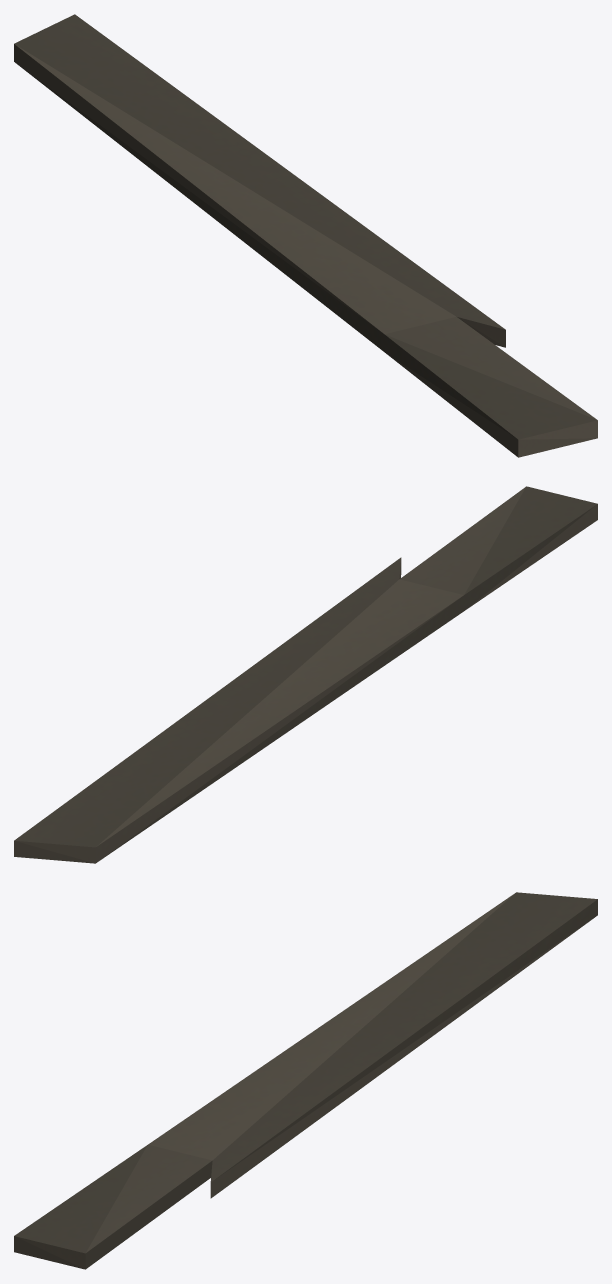
Rendered from Wood_1E_LOD.fbx.
3 renders of one model, top to bottom at view 1: azimuth 30°, elevation 25°; view 2: azimuth 150°, elevation 25°; view 3: azimuth 330°, elevation 25°, orthographic. The views are drawn at different scales.
Visible parts, largest first — view 1: pCube995; view 2: pCube995; view 3: pCube995.
Boxes of the visible parts, <box> form: pCube995: <box>14,14,597,457</box>; pCube995: <box>14,486,597,863</box>; pCube995: <box>14,892,597,1269</box>.
Bounding box in the file's own units: 0.48 × 0.08 × 4.4.
